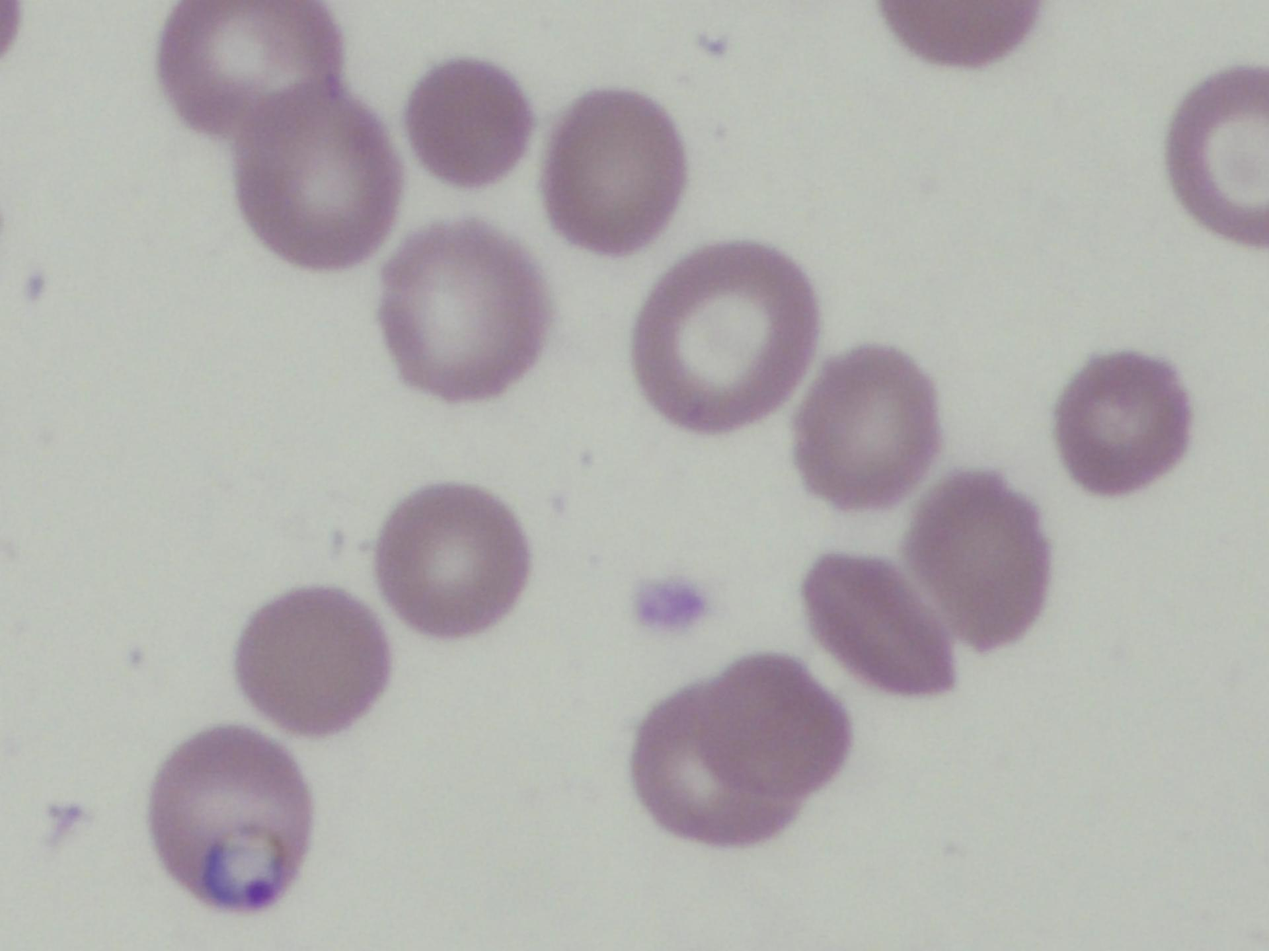Infected: (145, 724, 314, 914)
Uninfected: (634, 657, 845, 843), (634, 241, 822, 430), (375, 220, 553, 402), (233, 93, 399, 266), (908, 475, 1052, 652), (373, 483, 530, 636), (792, 347, 941, 507), (234, 587, 393, 736), (159, 2, 337, 133), (543, 90, 687, 248), (802, 552, 957, 697), (1052, 350, 1194, 493), (1167, 63, 1269, 245), (405, 57, 536, 189)
